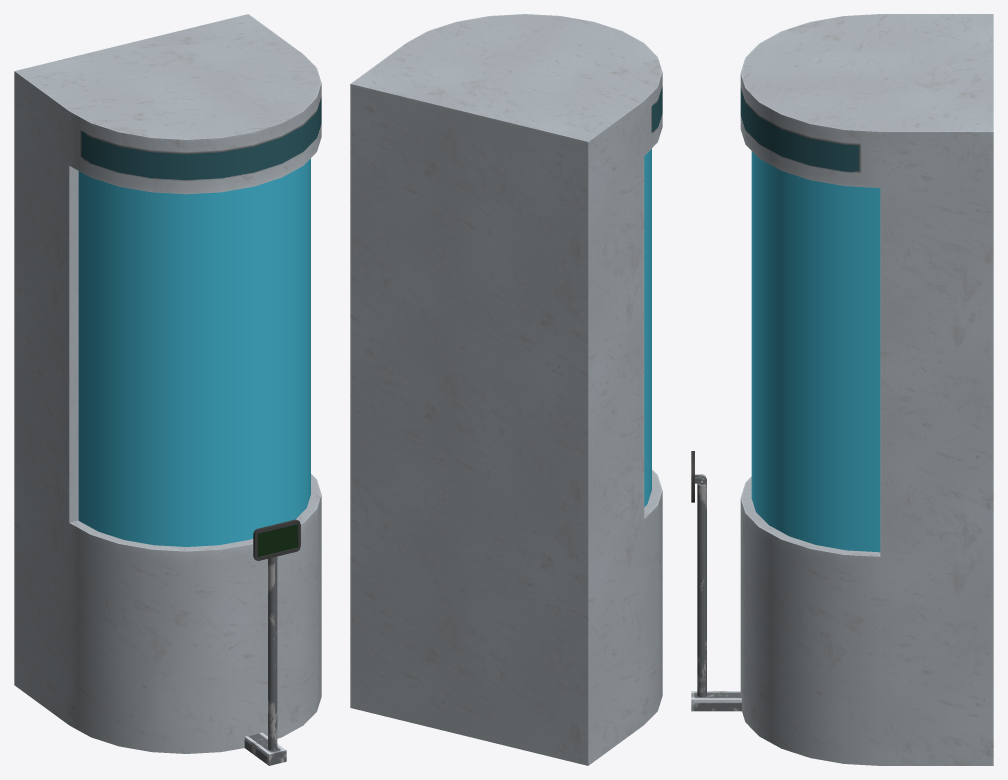
File: Container1.fbx
3 views of the same model, side by side, from view 1: azimuth 30°, elevation 25°; view 2: azimuth 150°, elevation 25°; view 3: azimuth 270°, elevation 25° (orthographic). The views are drawn at different scales.
Parts seen in each view (by area): view 1: Container1, Glass, Screen; view 2: Container1, Glass; view 3: Container1, Glass.
Part boxes in pixels (<box>): Container1: <box>14,14,321,765</box>; Glass: <box>78,158,310,546</box>; Screen: <box>253,519,300,560</box>; Container1: <box>350,14,662,765</box>; Glass: <box>644,149,651,506</box>; Container1: <box>691,14,993,765</box>; Glass: <box>751,151,880,552</box>.
Size of the model in its own units: 1.24 by 3.12 by 1.35.
